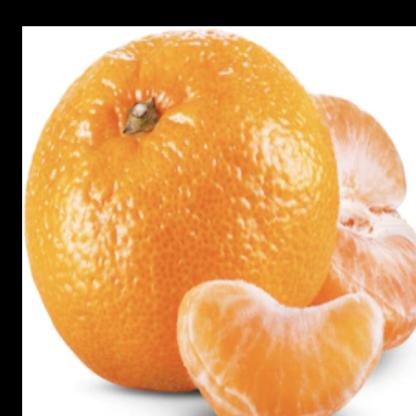fresh: (24, 29, 416, 416)
